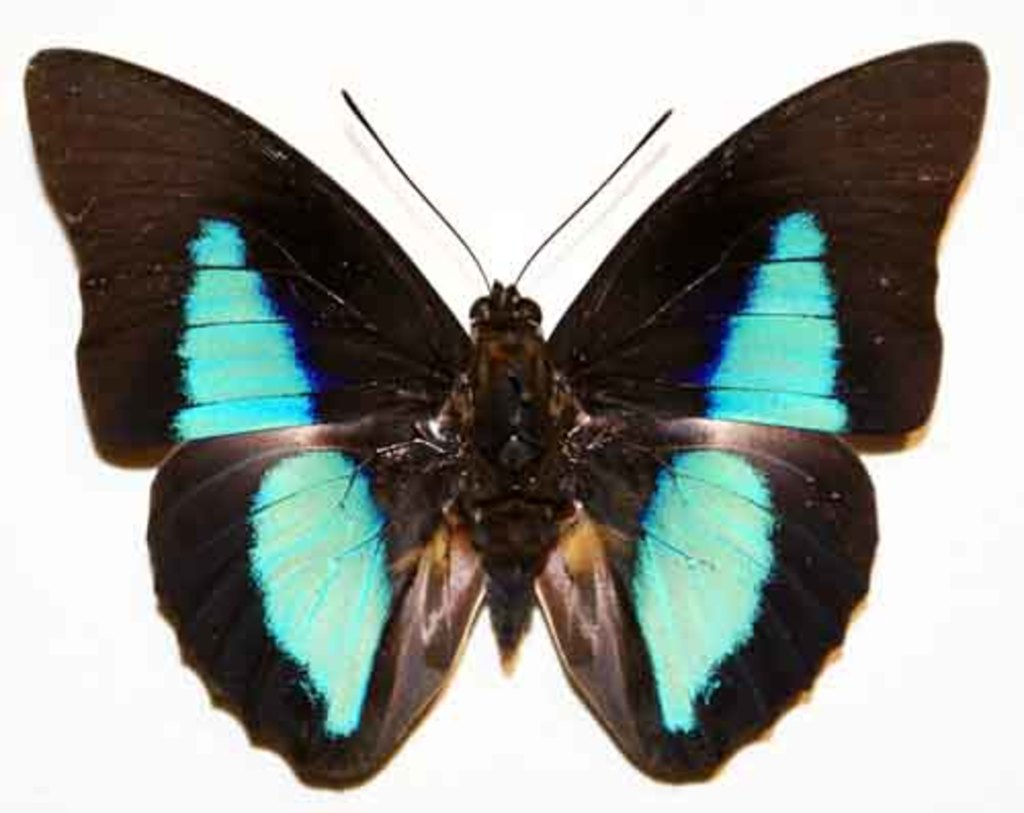Butterfly: (23, 39, 986, 794)
